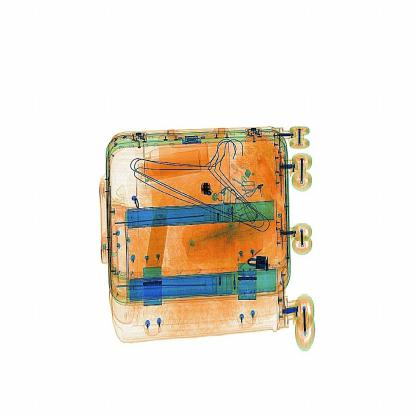scissors: (198, 180, 217, 198)
